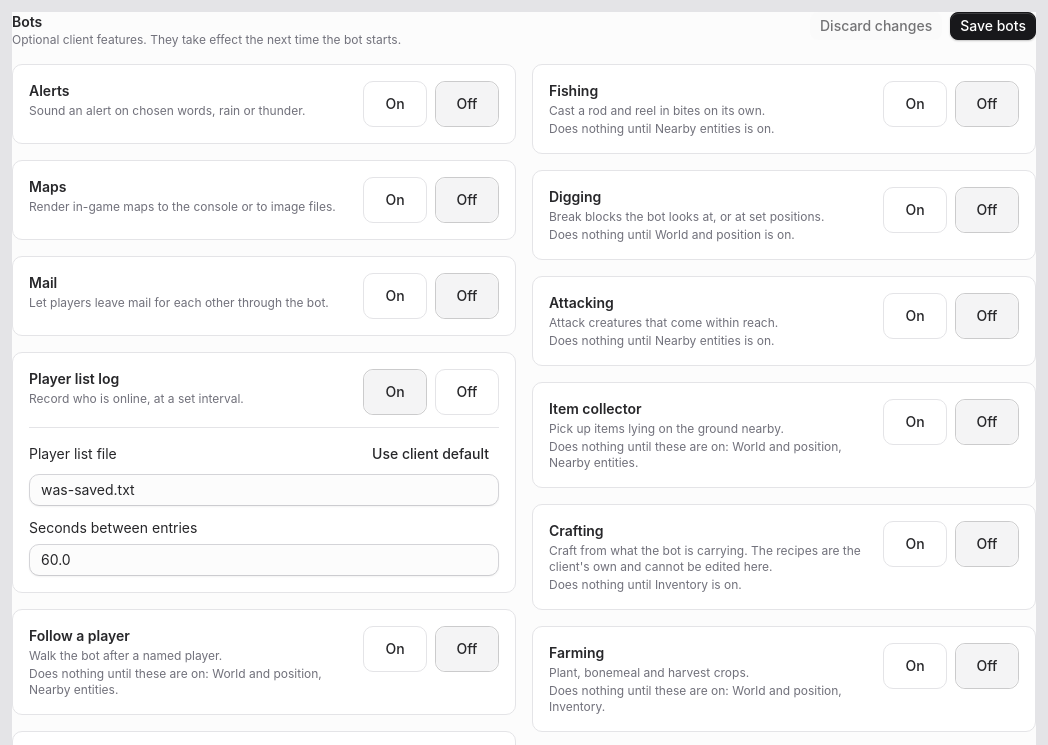
Test case: ★ what a bots save that lost the race tells the operator › ★ says the bot is busy instead, and leaves the operator's typing on screen
Replace the text in the field named "Player list file" with "mine.txt". click: (264,490)
box: [30,475,498,505]
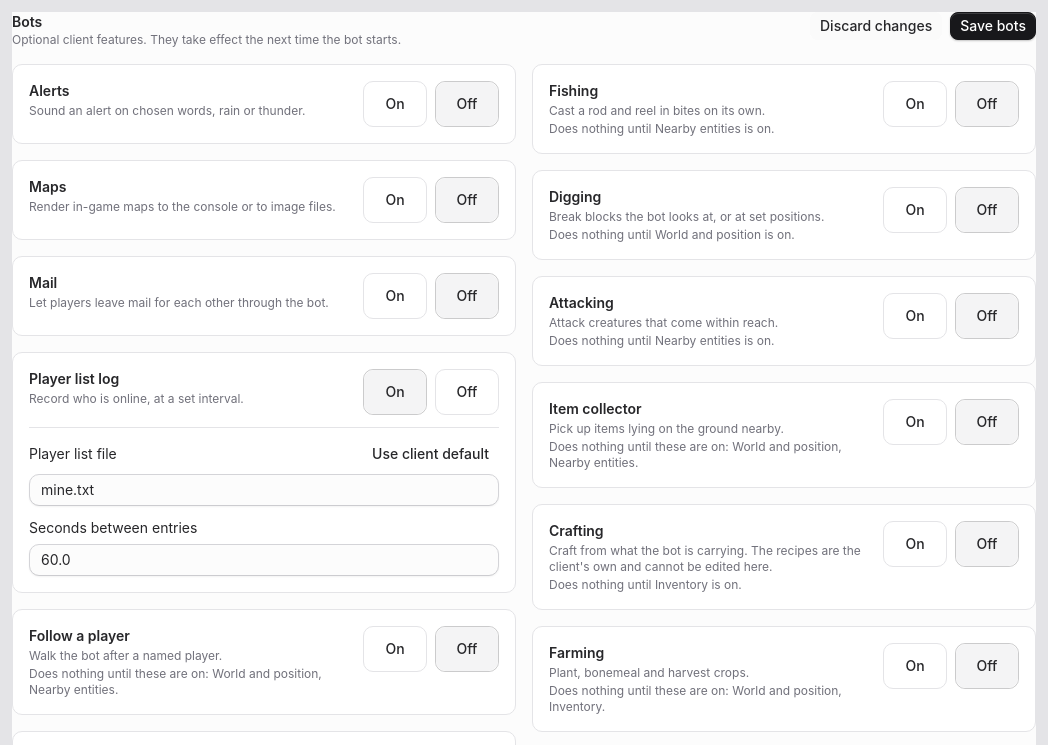
Click the button "Save bots". click: (993,26)
box: [950,12,1036,40]
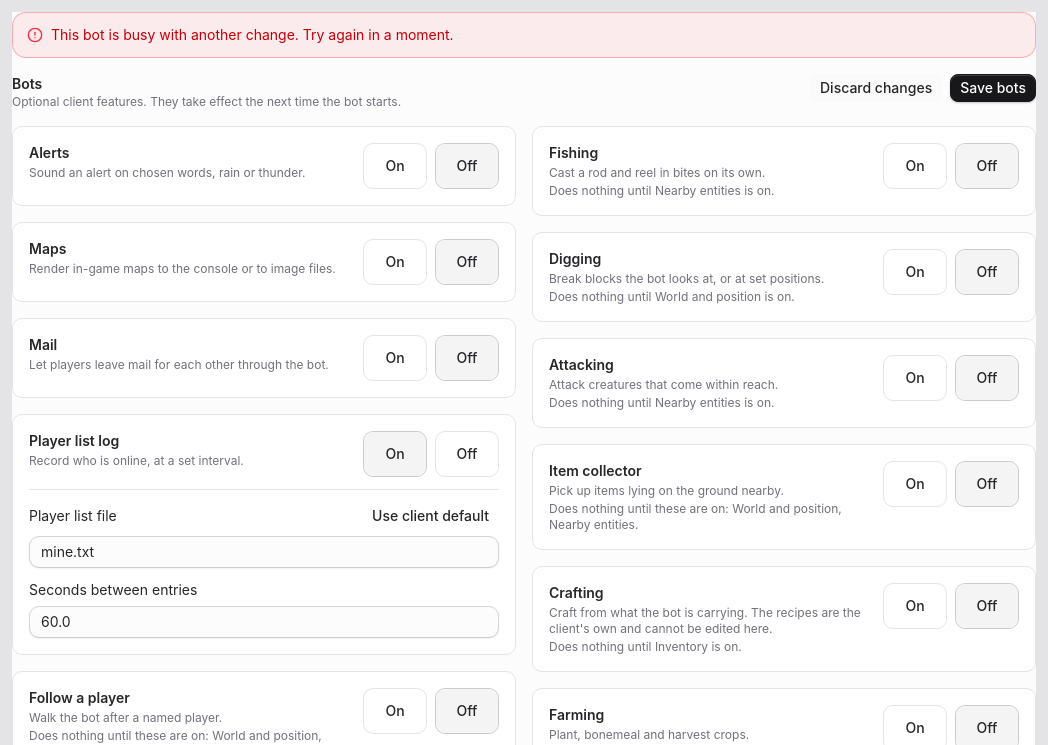
Now the text "This bot is busy with another change. Try again in a moment." is shown, box [51,26,454,43]
